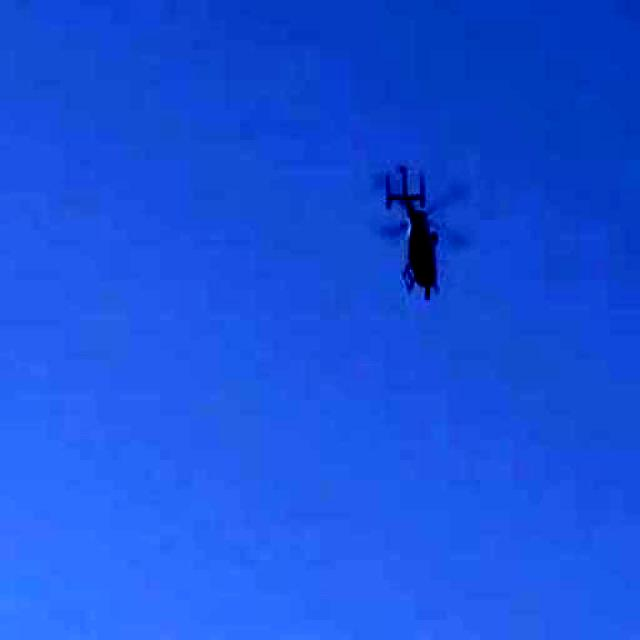drone: (356, 164, 480, 334)
